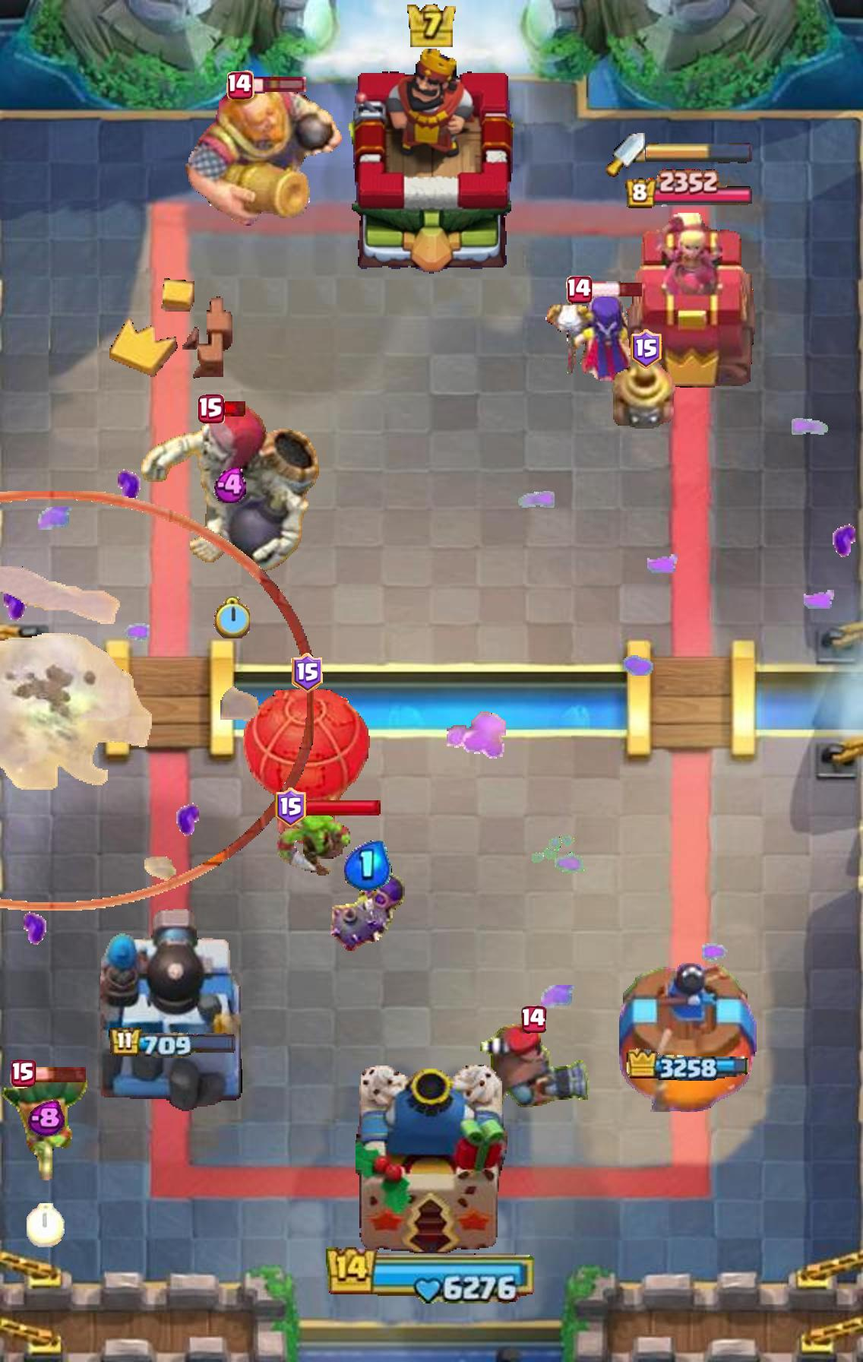elixir: (344, 841, 392, 891), (27, 1100, 65, 1138), (214, 467, 251, 503)
